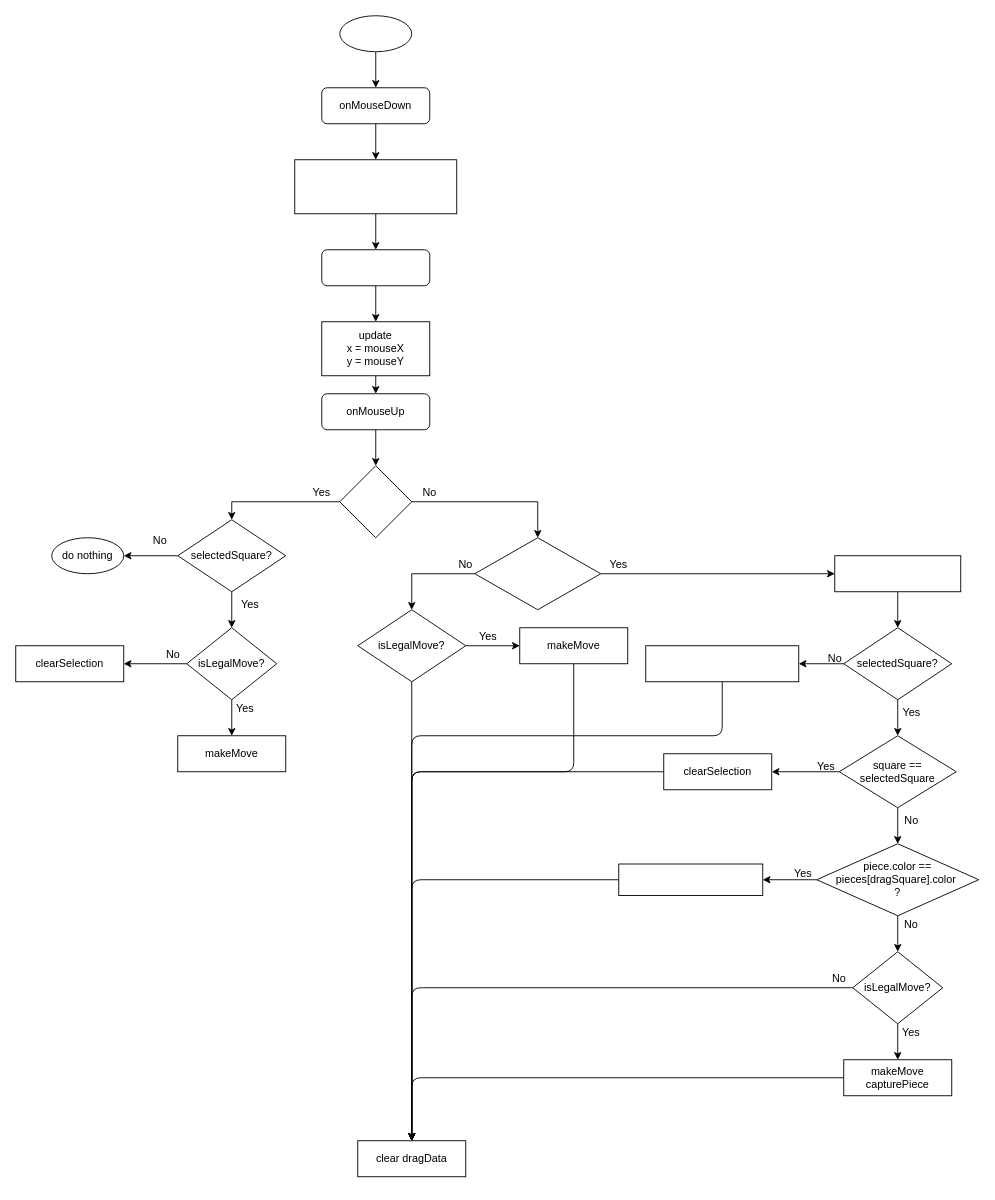
This 995x1200 diagram has some shape labels left out. Here are the shapes that lost their labels. From the top down, the box of each, then its label:
(339, 15, 412, 52): Board
(294, 159, 457, 214): set dragSquare = square x = mouseX y = mouseY
(321, 249, 430, 286): onMouseMove
(339, 465, 412, 538): square isEmpty?
(474, 537, 601, 610): square == dragSquare ?
(834, 555, 961, 592): piece=pieces[square]
(645, 645, 799, 682): set selectedSquare = square
(618, 863, 763, 896): update selectedSquare=square
